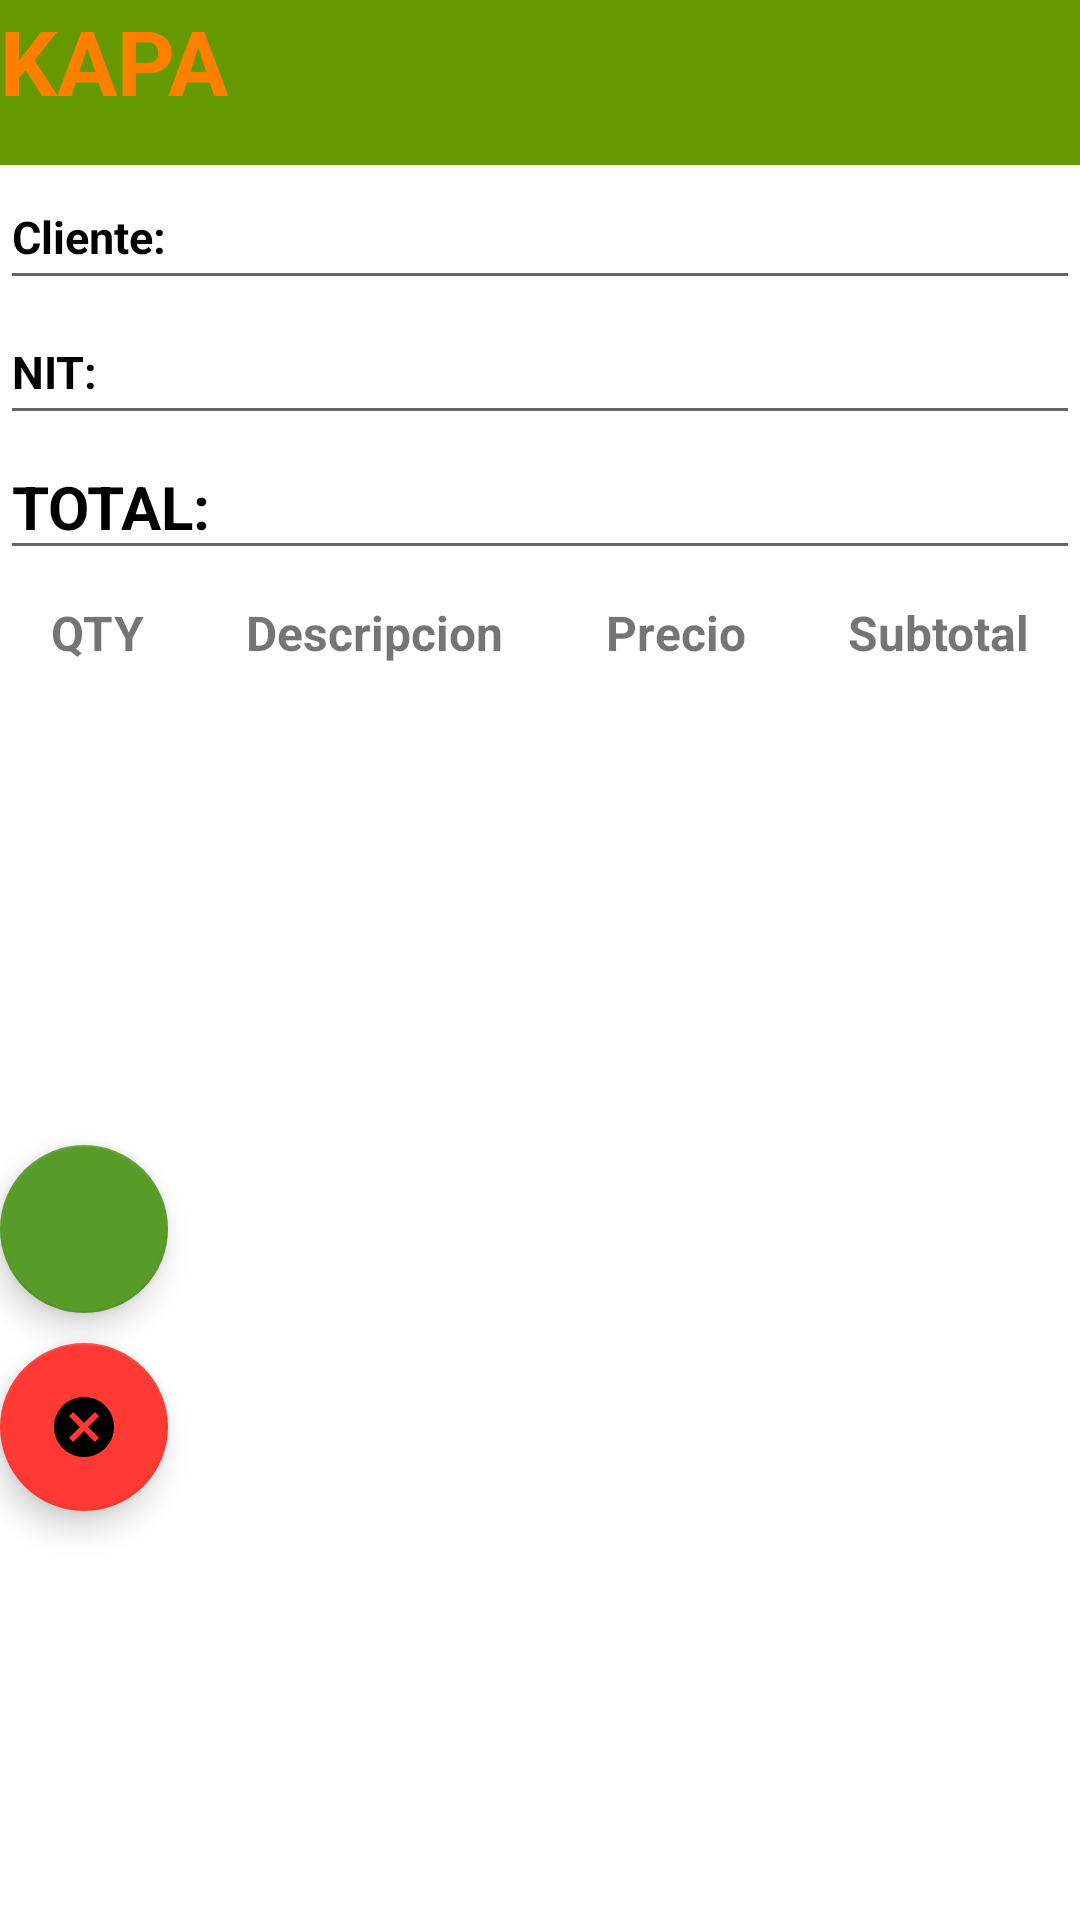

Screen size 1080*1920. Icon name, then its center in pixels as (x,y):
cancelar: (84,1427)
